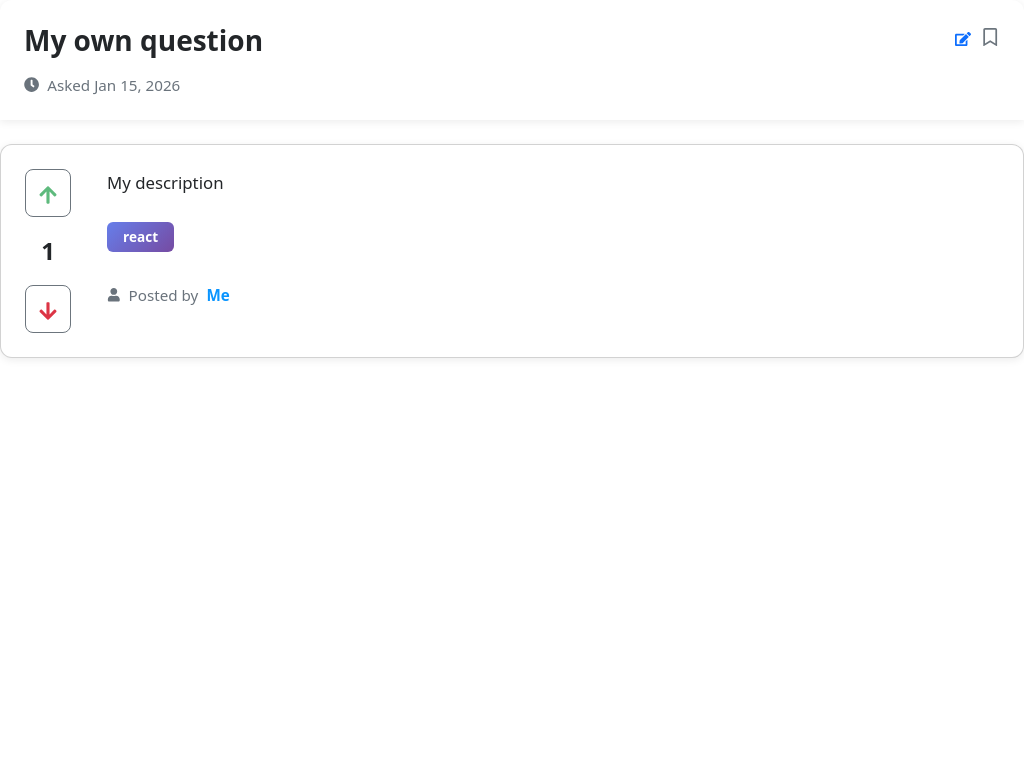
Test case: QuestionContent Component › pre-fills the edit form with the current content
The width and height of the screenshot is (1024, 768).
Step 1. Click the button named "edit question" → (963, 37), box [954,24,972,50]
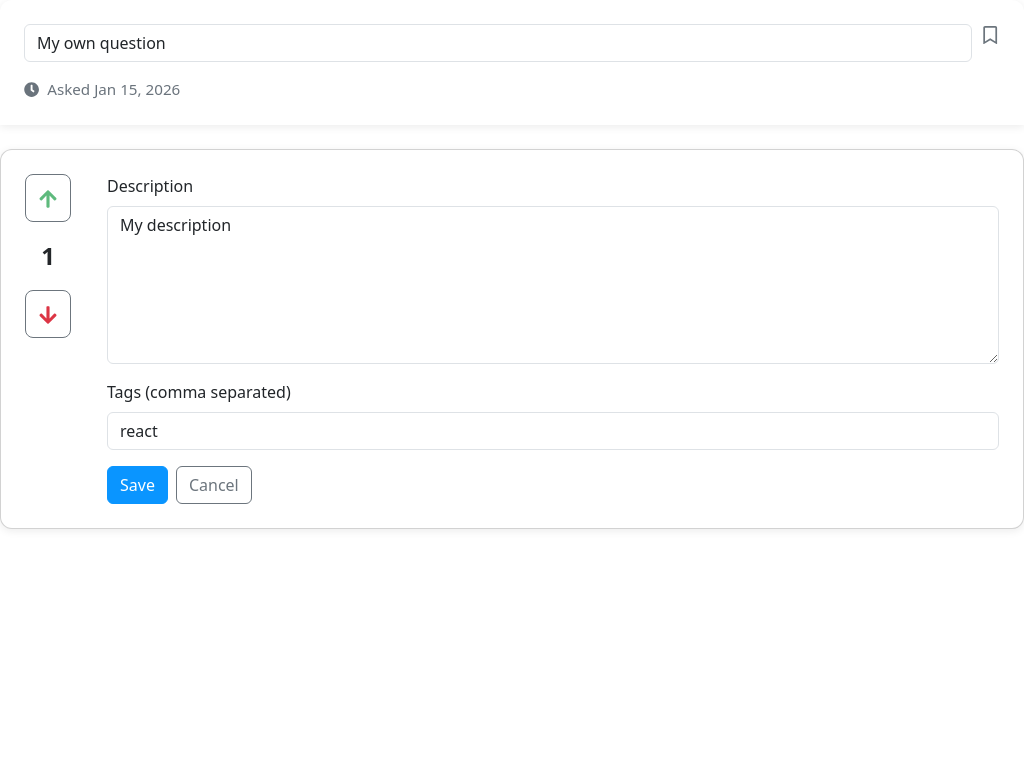
Check: the field named "Edit title" holds "My own question", box [24,24,972,62]
Check: the text box named "Edit description" holds "My description", box [107,206,999,364]
Check: the field named "Edit tags" holds "react", box [107,412,999,450]
